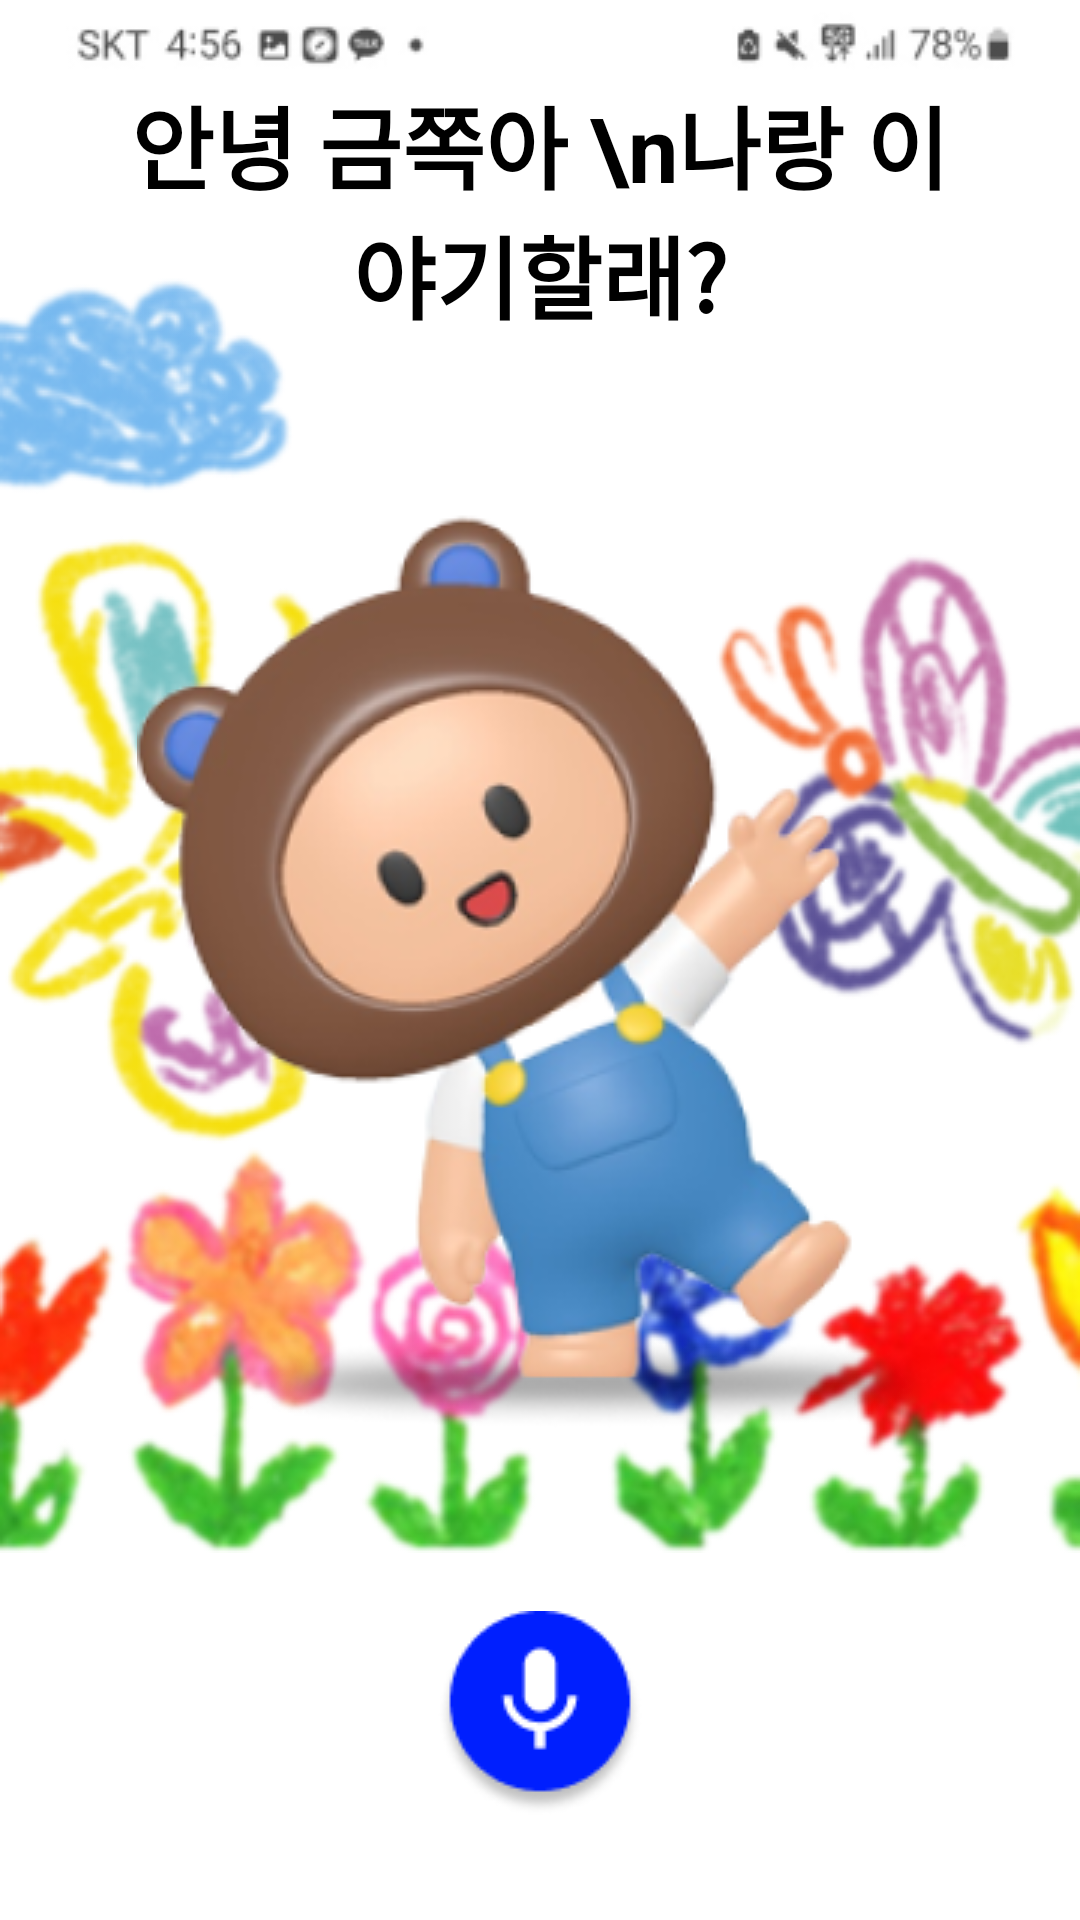

Point at icon controls on the screen. Image size 1080×1920, points as point (x, y).
mike: point (539, 1707)
